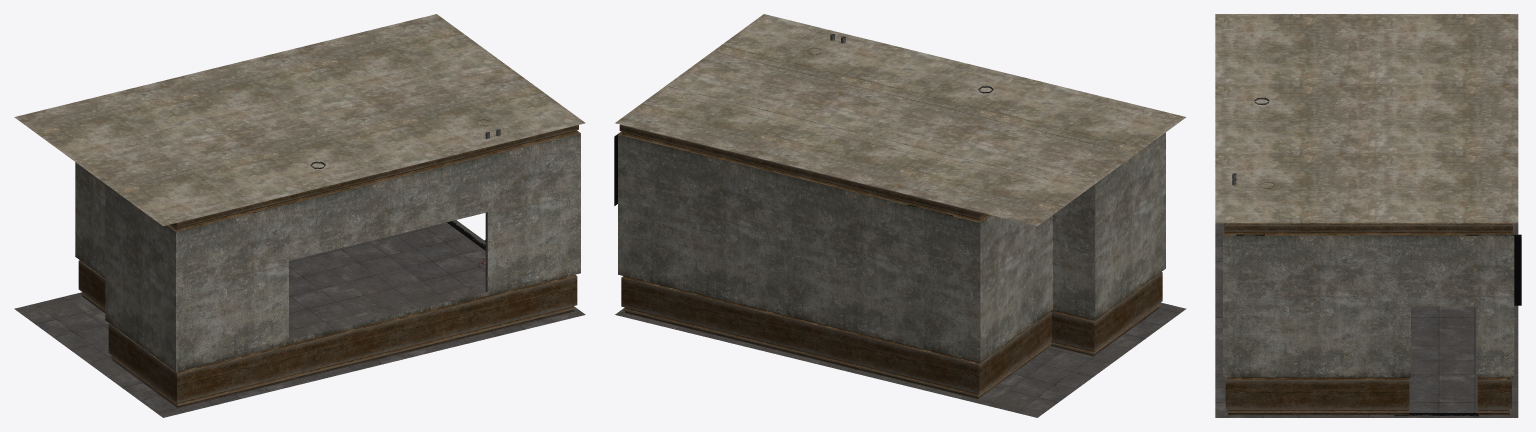
Rendered from st4_307_0_terrain_00ms.fbx.
3 views of the same model, side by side, from view 1: azimuth 30°, elevation 25°; view 2: azimuth 150°, elevation 25°; view 3: azimuth 270°, elevation 25° (orthographic).
Visible parts, largest first — view 1: LOD_1_Group_0_Sub_5__st2_police1fRightCeiling12, LOD_1_Group_0_Sub_2__st2_police1fRightWall13, LOD_1_Group_0_Sub_1__st2_police1fRightFloor12, LOD_1_Group_0_Sub_4__st2_police1fRightWall16; view 2: LOD_1_Group_0_Sub_2__st2_police1fRightWall13, LOD_1_Group_0_Sub_5__st2_police1fRightCeiling12, LOD_1_Group_0_Sub_4__st2_police1fRightWall16, LOD_1_Group_0_Sub_1__st2_police1fRightFloor12; view 3: LOD_1_Group_0_Sub_5__st2_police1fRightCeiling12, LOD_1_Group_0_Sub_2__st2_police1fRightWall13, LOD_1_Group_0_Sub_4__st2_police1fRightWall16, LOD_1_Group_0_Sub_1__st2_police1fRightFloor12, LOD_1_Group_0_Sub_6__st2_police1fRightDirt02.
Part boxes in pixels (<box>): LOD_1_Group_0_Sub_5__st2_police1fRightCeiling12: <box>14,14,585,226</box>; LOD_1_Group_0_Sub_2__st2_police1fRightWall13: <box>75,130,580,371</box>; LOD_1_Group_0_Sub_1__st2_police1fRightFloor12: <box>14,220,585,417</box>; LOD_1_Group_0_Sub_4__st2_police1fRightWall16: <box>78,125,580,407</box>; LOD_1_Group_0_Sub_2__st2_police1fRightWall13: <box>618,132,1165,362</box>; LOD_1_Group_0_Sub_5__st2_police1fRightCeiling12: <box>615,14,1186,226</box>; LOD_1_Group_0_Sub_4__st2_police1fRightWall16: <box>618,124,1162,398</box>; LOD_1_Group_0_Sub_1__st2_police1fRightFloor12: <box>615,302,1186,417</box>; LOD_1_Group_0_Sub_5__st2_police1fRightCeiling12: <box>1215,14,1518,223</box>; LOD_1_Group_0_Sub_2__st2_police1fRightWall13: <box>1223,235,1514,377</box>; LOD_1_Group_0_Sub_4__st2_police1fRightWall16: <box>1223,223,1514,415</box>; LOD_1_Group_0_Sub_1__st2_police1fRightFloor12: <box>1215,223,1518,417</box>; LOD_1_Group_0_Sub_6__st2_police1fRightDirt02: <box>1236,234,1521,416</box>.
Bounding box in the file's own units: 9 × 4.01 × 5.56.
